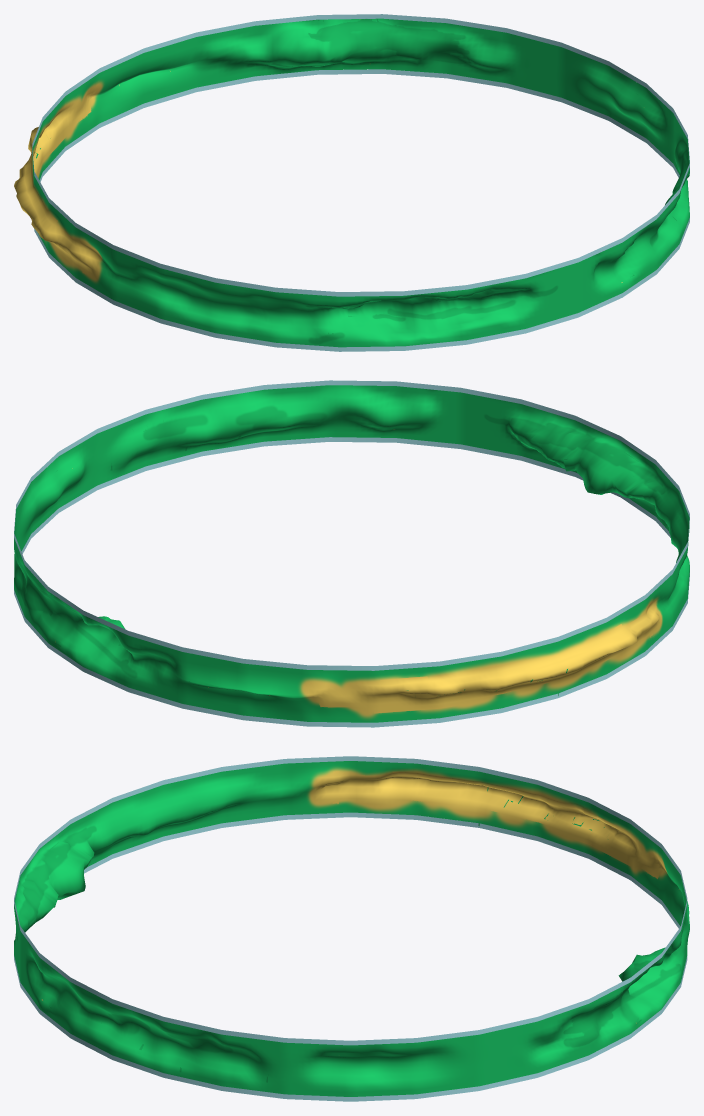
File: Halohollowsculpt 1.fbx
3 renders of one model, top to bottom at view 1: azimuth 30°, elevation 25°; view 2: azimuth 150°, elevation 25°; view 3: azimuth 270°, elevation 25°, orthographic. The views are drawn at different scales.
Parts seen in each view (by area): view 1: Cylinder; view 2: Cylinder; view 3: Cylinder.
Part boxes in pixels (bbox=[...]): Cylinder: bbox=[14, 14, 689, 351]; Cylinder: bbox=[14, 380, 689, 727]; Cylinder: bbox=[14, 756, 689, 1101].
Size of the model in its own units: 20.42 by 2 by 20.08.
1 material, 1 textured.
